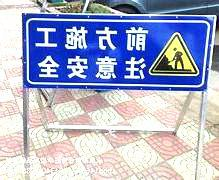sign: (25, 15, 206, 89)
